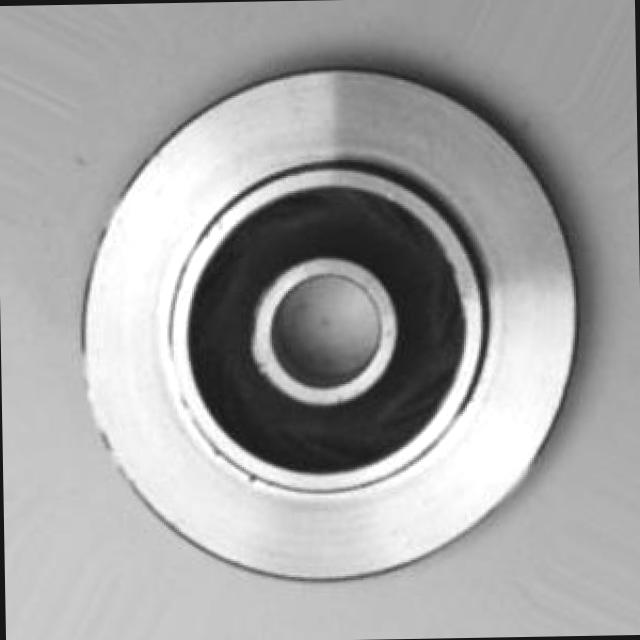Defect: (244, 468, 264, 494)
